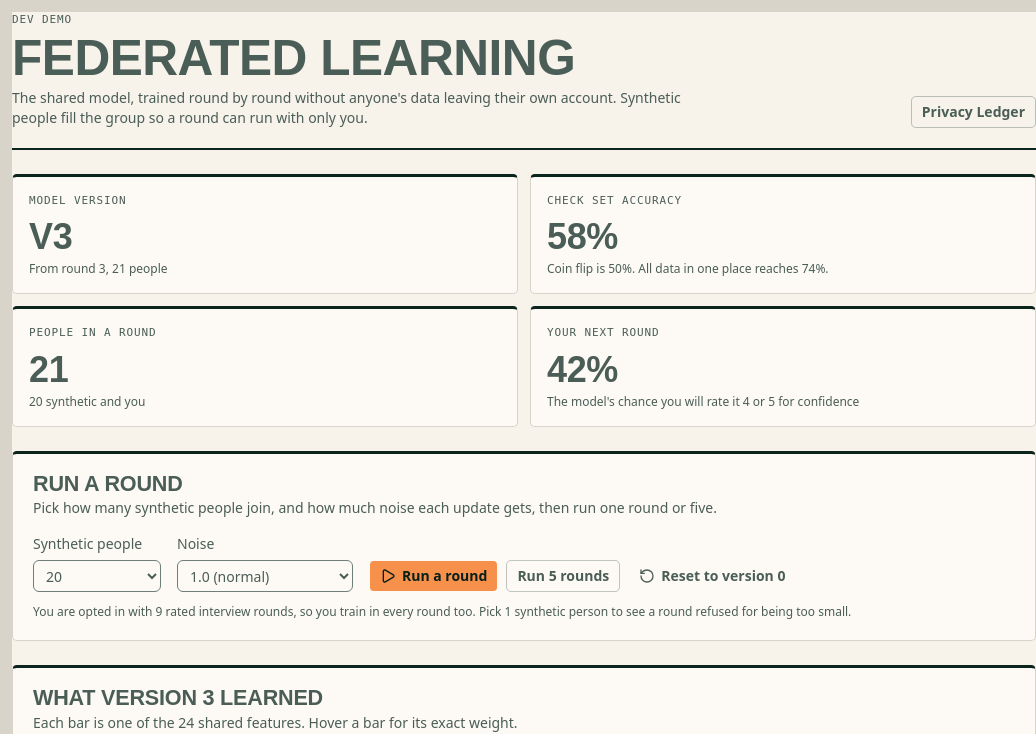
FederatedLearningDemoPage › runs a round with the chosen noise and reports the new version
This screenshot has width=1036, height=734.
Select "0.5 (demo only)" in the dropdown labelled "Noise". click: coordinates (265, 576)
box: [177, 560, 353, 592]
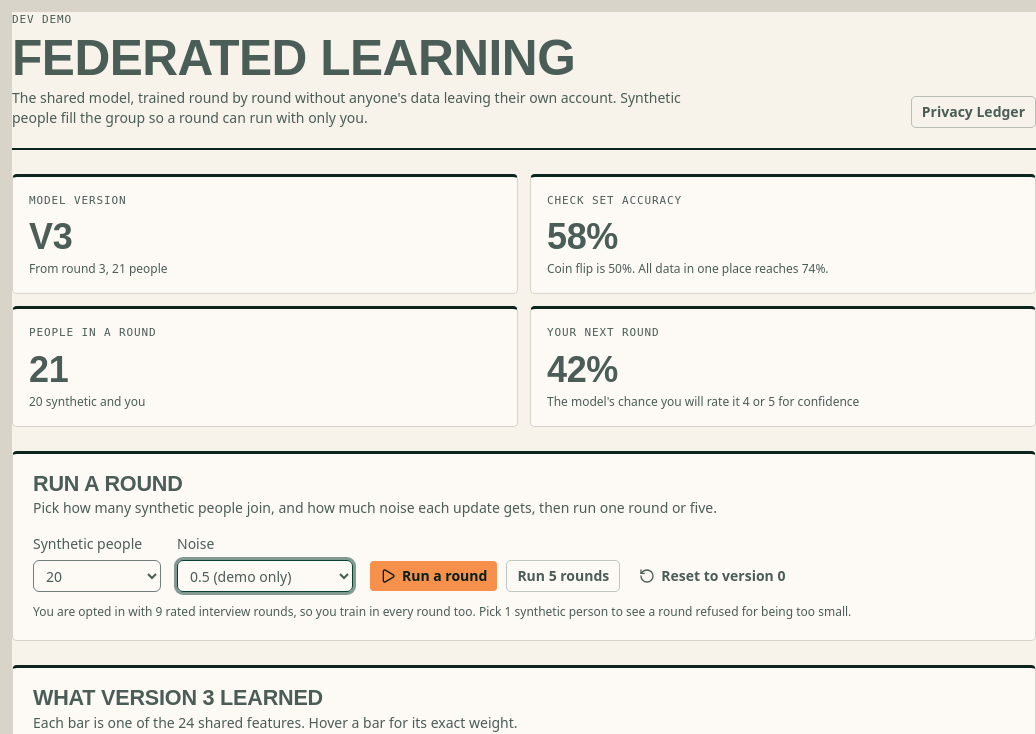
Click the button "Run a round". click: coordinates (434, 576)
box: [369, 560, 498, 592]
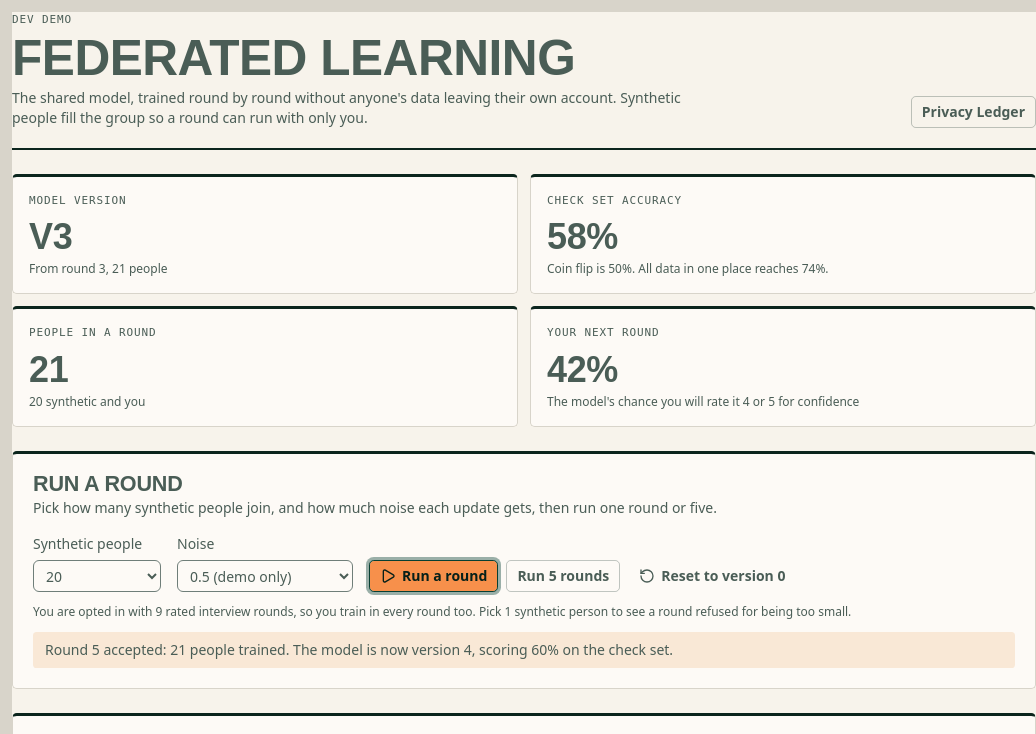
Expected: the text "Round 5 accepted: 21 people trained. The model is now version 4, scoring 60%" is shown, [45, 640, 673, 659]
